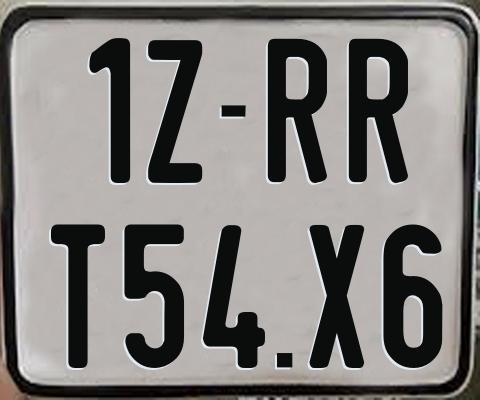1: (88, 35, 134, 181)
4: (201, 223, 263, 370)
5: (123, 222, 184, 367)
6: (382, 222, 446, 371)
R: (268, 39, 330, 186), (348, 39, 409, 186)
T: (51, 221, 108, 367)
X: (307, 223, 363, 372)
Z: (148, 39, 204, 188)
